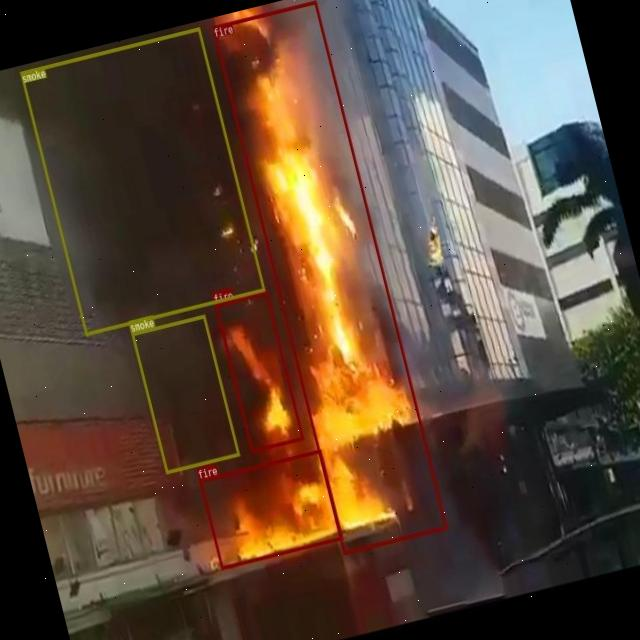fire: (211, 0, 447, 553), (198, 448, 342, 568), (214, 290, 303, 452)
smoke: (20, 27, 265, 336), (130, 314, 239, 473)
